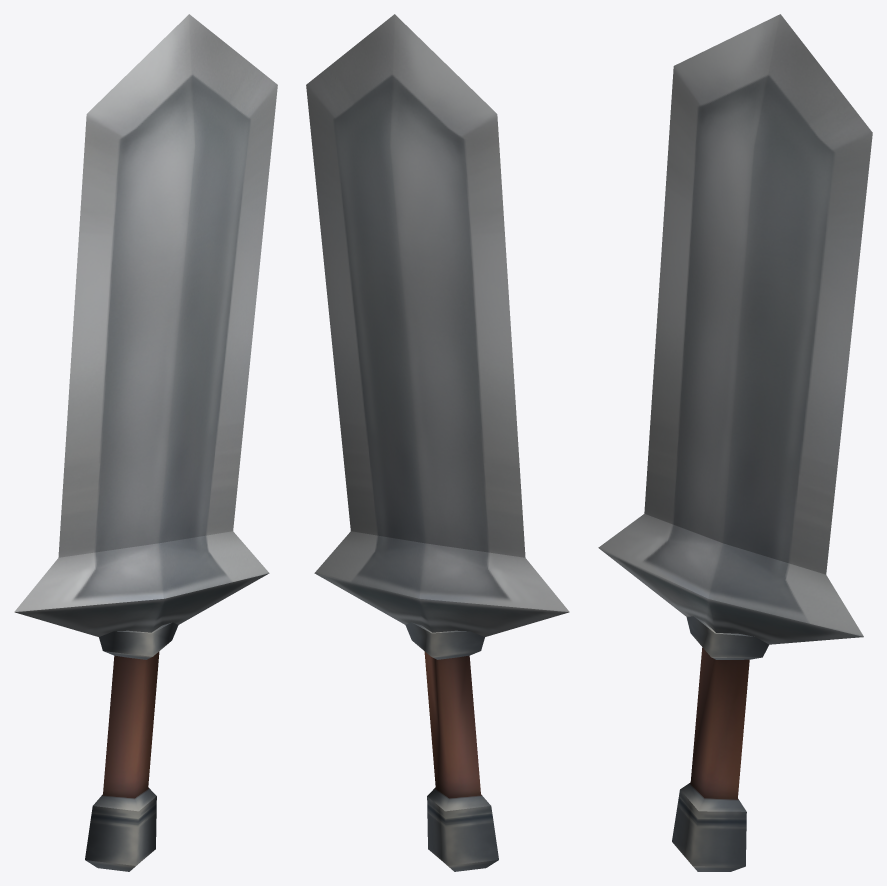
File: Sword_000.FBX
The picture shows the model from 3 angles, left to right: view 1: azimuth 30°, elevation 25°; view 2: azimuth 150°, elevation 25°; view 3: azimuth 330°, elevation 25°; orthographic projection. The views are drawn at different scales.
Visible parts, largest first — view 1: Sword_000; view 2: Sword_000; view 3: Sword_000.
Part boxes in pixels (<box>): Sword_000: <box>14,14,277,871</box>; Sword_000: <box>306,14,569,871</box>; Sword_000: <box>598,14,872,871</box>.
Bounding box in the file's own units: 22.85 × 69.16 × 6.63.
